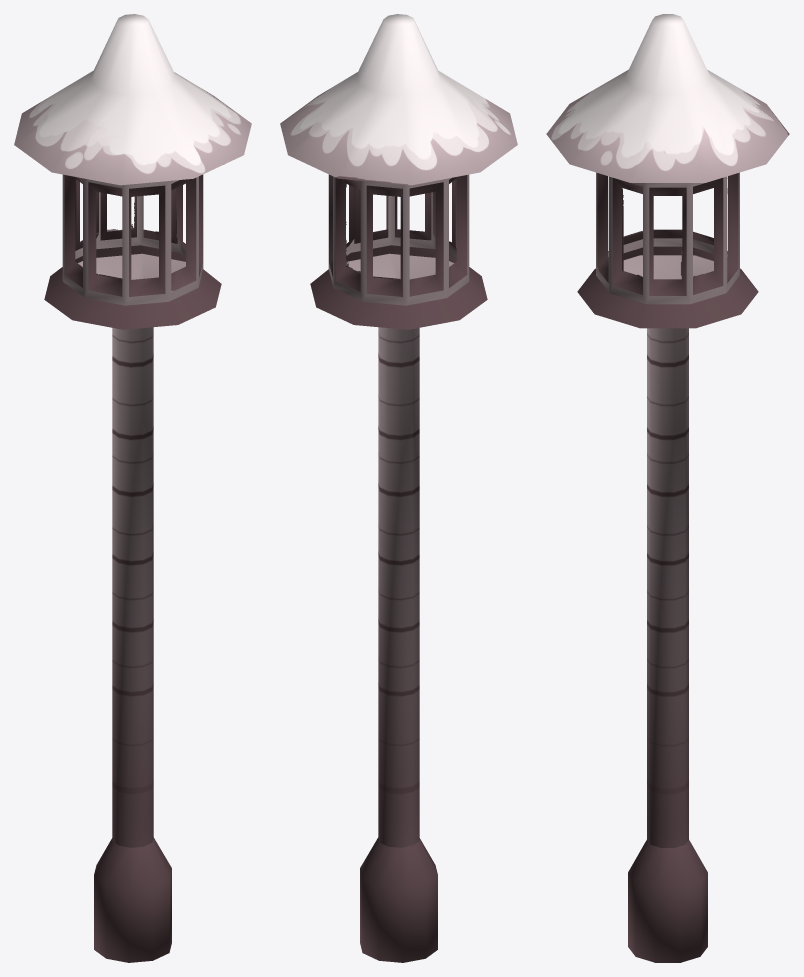
Rendered from Lamp.fbx.
The picture shows the model from 3 angles, left to right: view 1: azimuth 30°, elevation 25°; view 2: azimuth 150°, elevation 25°; view 3: azimuth 270°, elevation 25°; orthographic projection.
Visible parts, largest first — view 1: Cylinder.001; view 2: Cylinder.001; view 3: Cylinder.001.
Part boxes in pixels (bbox=[...]): Cylinder.001: bbox=[14, 14, 251, 962]; Cylinder.001: bbox=[280, 14, 517, 962]; Cylinder.001: bbox=[546, 14, 789, 962].
Bounding box in the file's own units: 263 × 1163 × 277.
